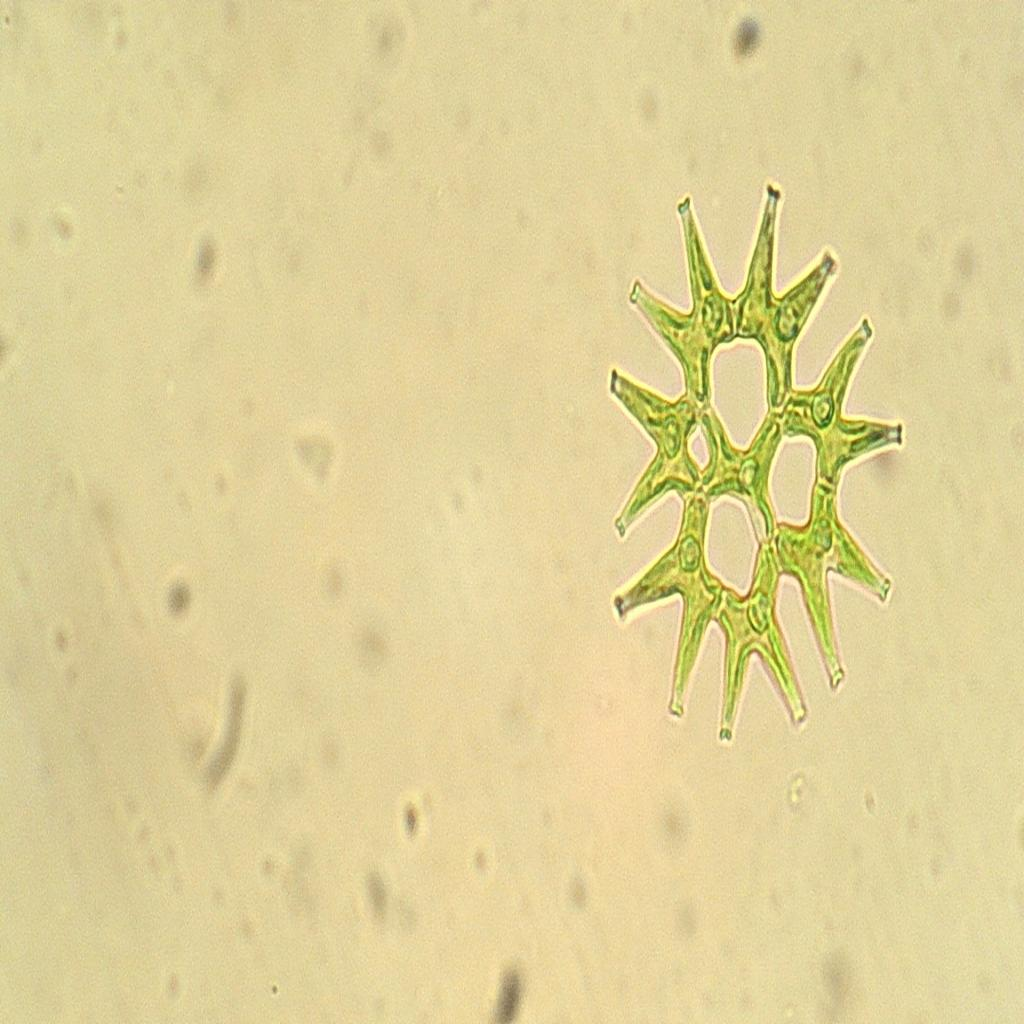Pediastrum_75T: (594, 143, 915, 775)
